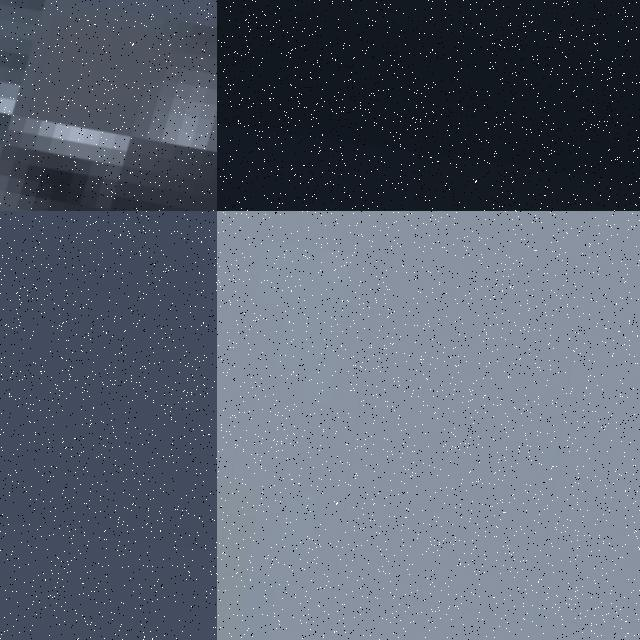drone: (0, 0, 217, 211)
